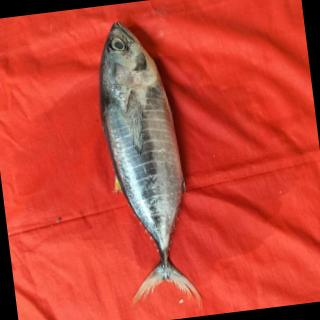Ikan: (70, 5, 218, 319)
